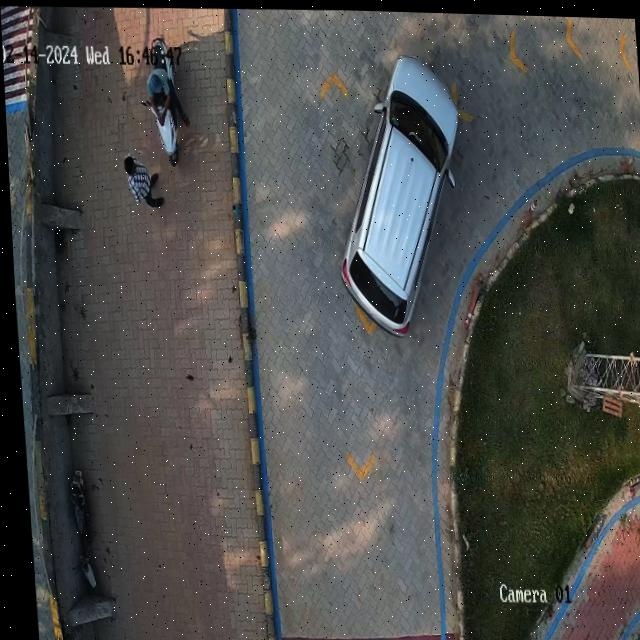car: (336, 51, 459, 335)
